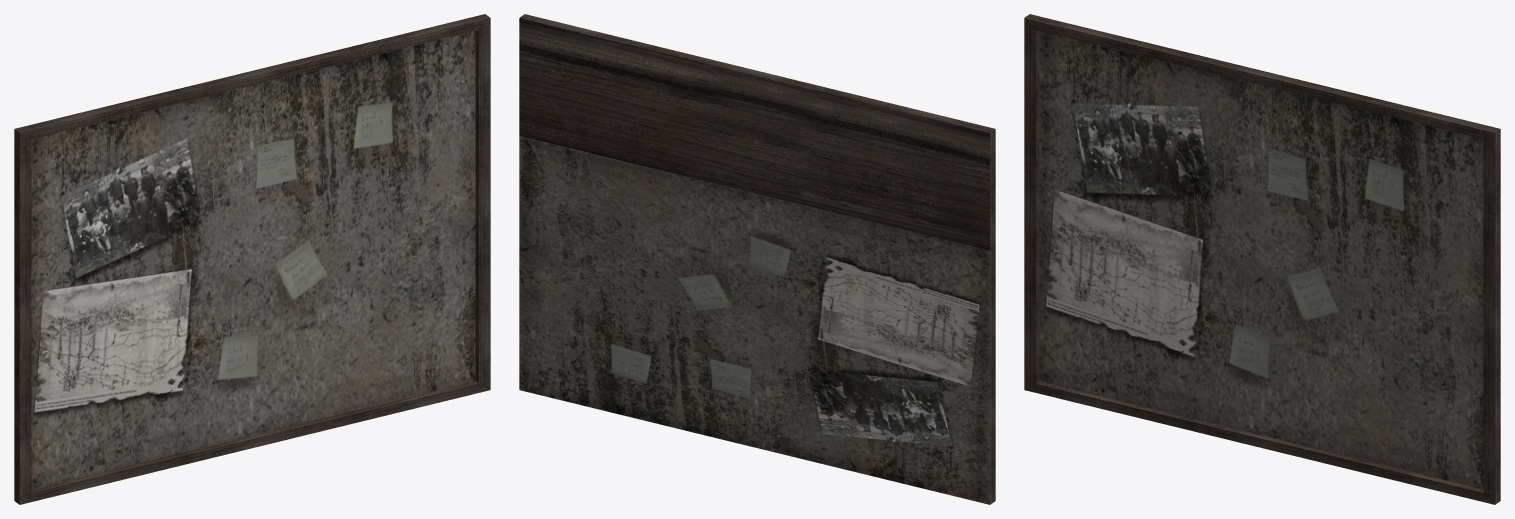
Rendered from office_noteboard.dae.
The picture shows the model from 3 angles, left to right: view 1: azimuth 30°, elevation 25°; view 2: azimuth 150°, elevation 25°; view 3: azimuth 330°, elevation 25°; orthographic projection.
Visible parts, largest first — view 1: noteboard1; view 2: noteboard1; view 3: noteboard1.
Boxes of the visible parts, <box> form: noteboard1: <box>14,14,490,504</box>; noteboard1: <box>519,14,995,504</box>; noteboard1: <box>1024,14,1500,504</box>.
Size of what is drawn, in the model's own units: 1.5 by 1.14 by 0.0309.
